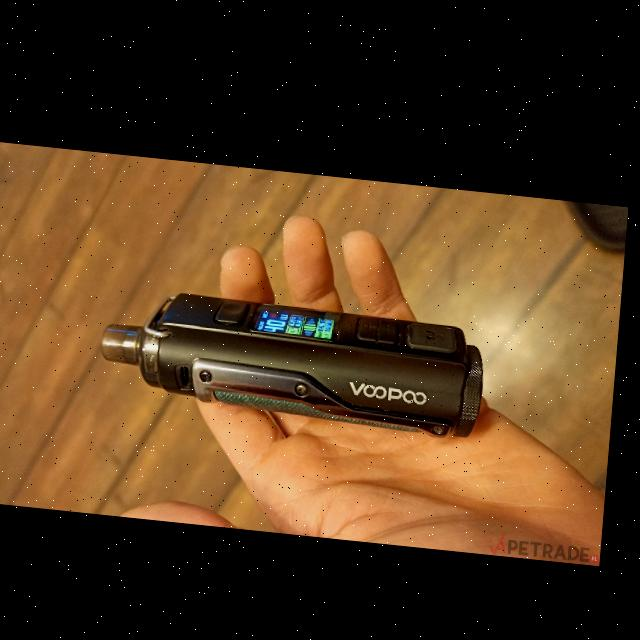vape: (103, 281, 493, 431)
